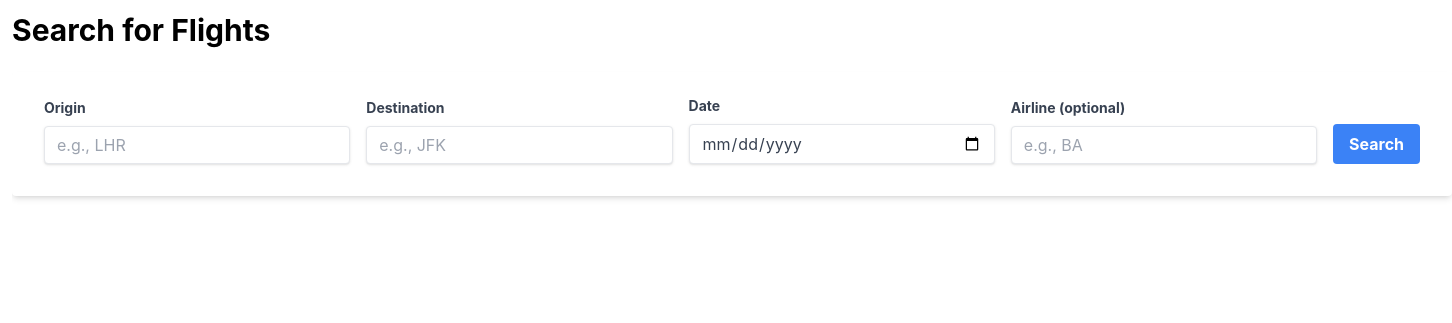
Scenario: FlightsPage › displays an error message on API failure
The width and height of the screenshot is (1452, 323).
// Fill out the form and search
In the field labelled "Origin": [197, 145] box top-left (44, 126), bottom-right (350, 164), type "JFK"
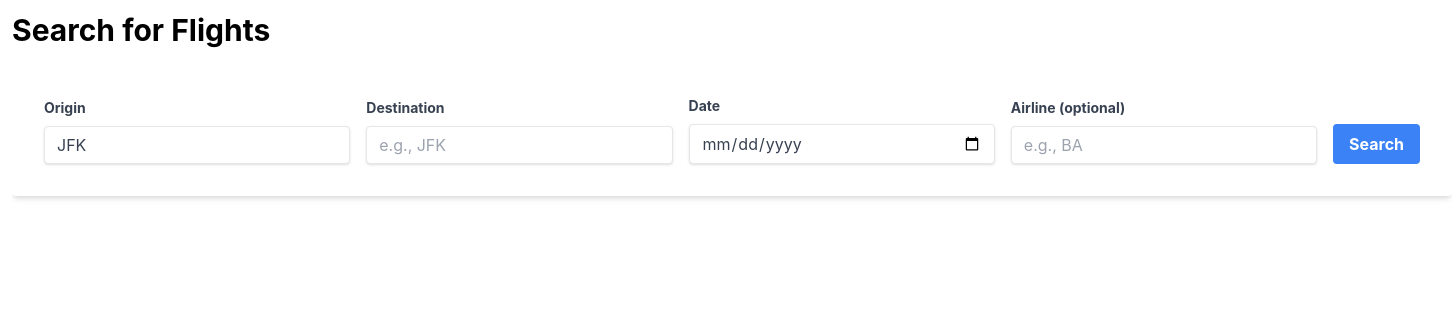
In the field labelled "Destination": [519, 145] box top-left (366, 126), bottom-right (673, 164), type "LHR"
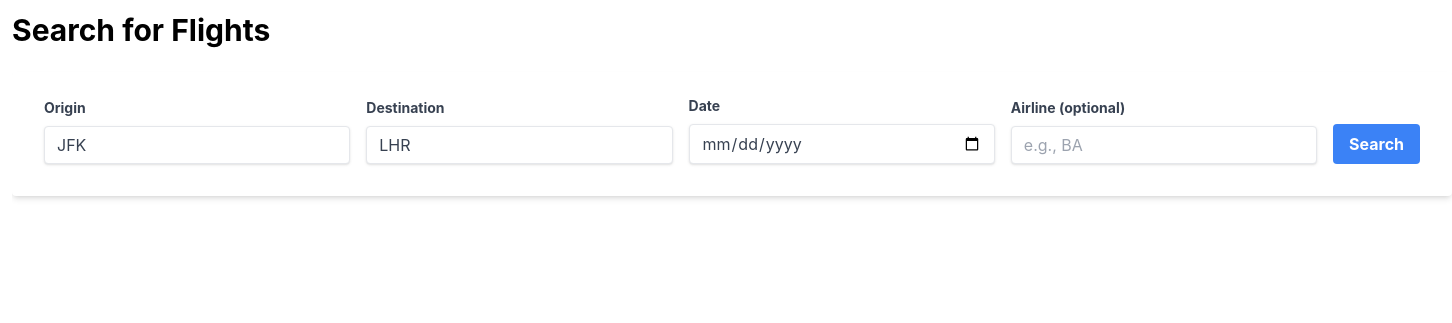
In the date field labelled "Date": [842, 144] box top-left (688, 124), bottom-right (995, 164), type "2025-07-07"
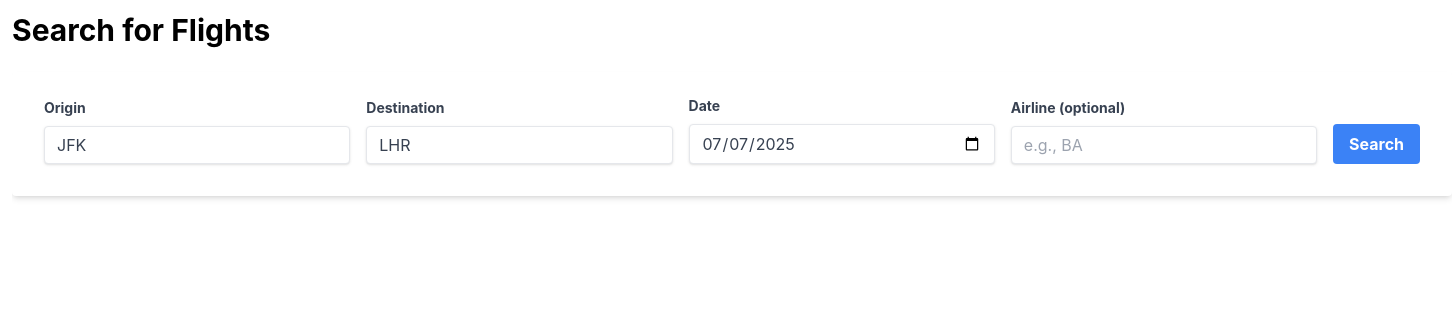
Click the button "Search": [1377, 144] box top-left (1333, 124), bottom-right (1420, 164)
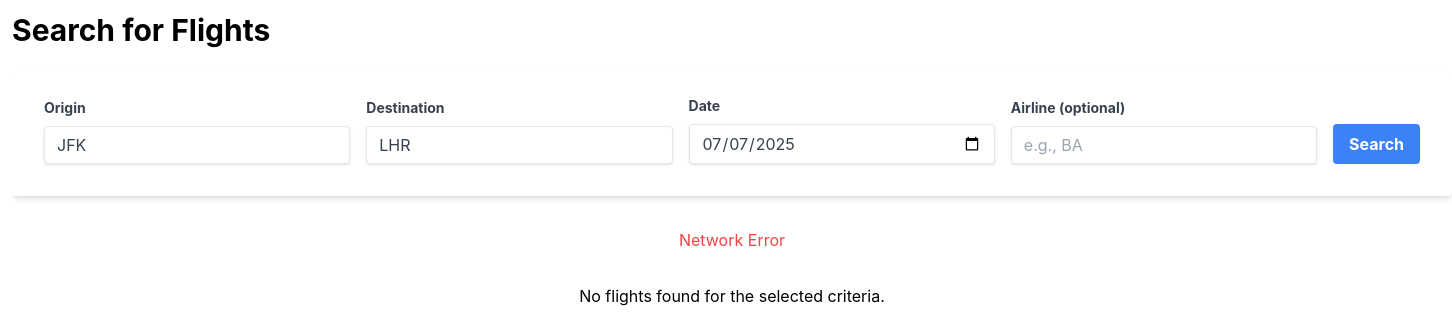
Expected: the text "Network Error" is shown, top-left (679, 230), bottom-right (785, 250)
